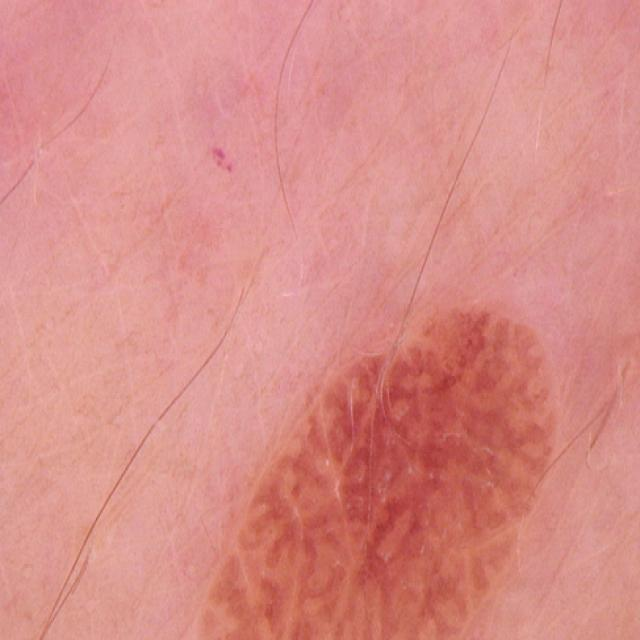Keratosis: (167, 273, 629, 640)
